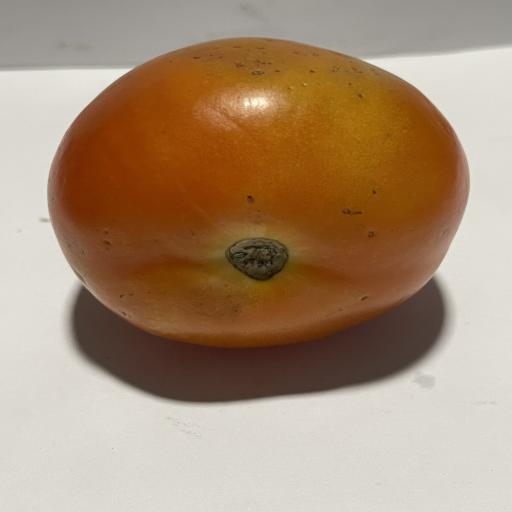unripe: (48, 38, 468, 347)
